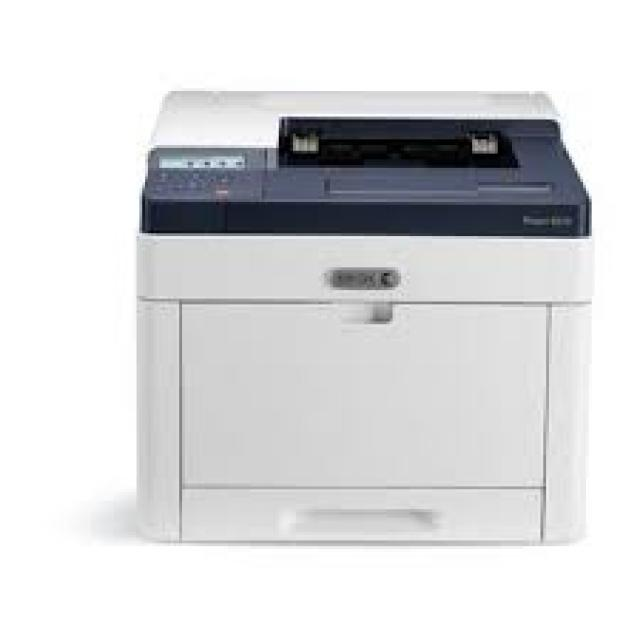printer: (103, 71, 618, 576)
